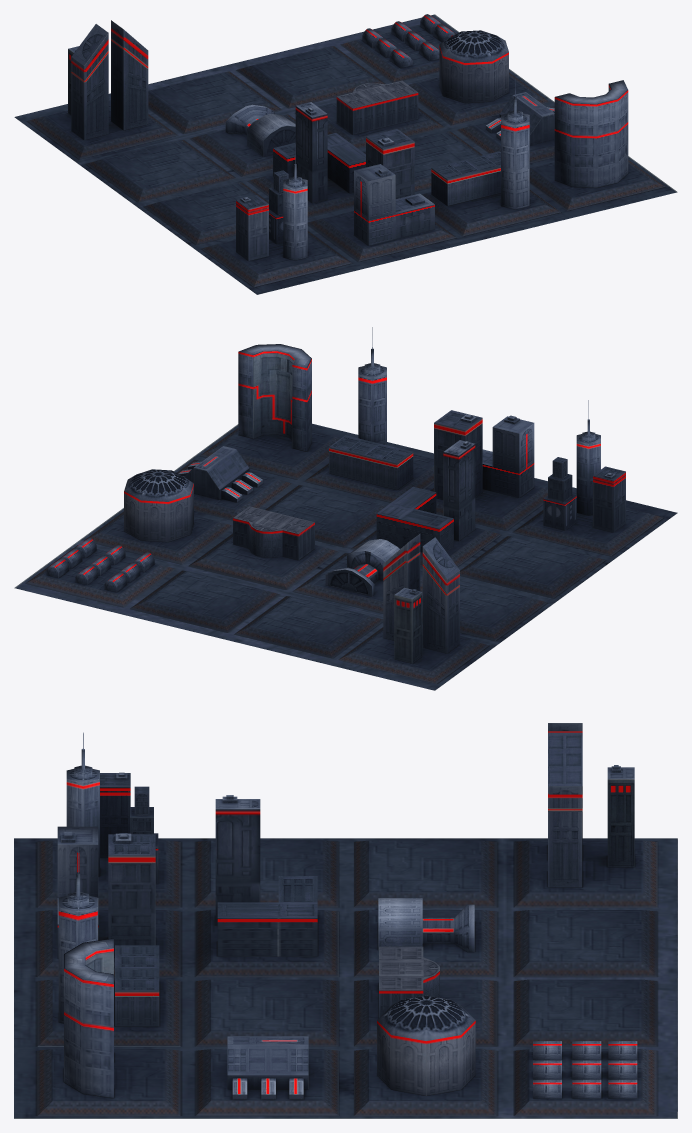
Rendered from CityBlock0_Model.FBX.
The picture shows the model from 3 angles, top to bottom: view 1: azimuth 30°, elevation 25°; view 2: azimuth 150°, elevation 25°; view 3: azimuth 270°, elevation 25°; orthographic projection. The views are drawn at different scales.
Visible parts, largest first — view 1: polySurface22; view 2: polySurface22; view 3: polySurface22.
Boxes of the visible parts, left/top/right/bottom form: polySurface22: left=14, top=14, right=677, bottom=294; polySurface22: left=14, top=327, right=677, bottom=690; polySurface22: left=14, top=723, right=677, bottom=1118.
Size of the model in its own units: 43.8 by 13.75 by 43.8.
Materials: 1 (1 with a texture image).
